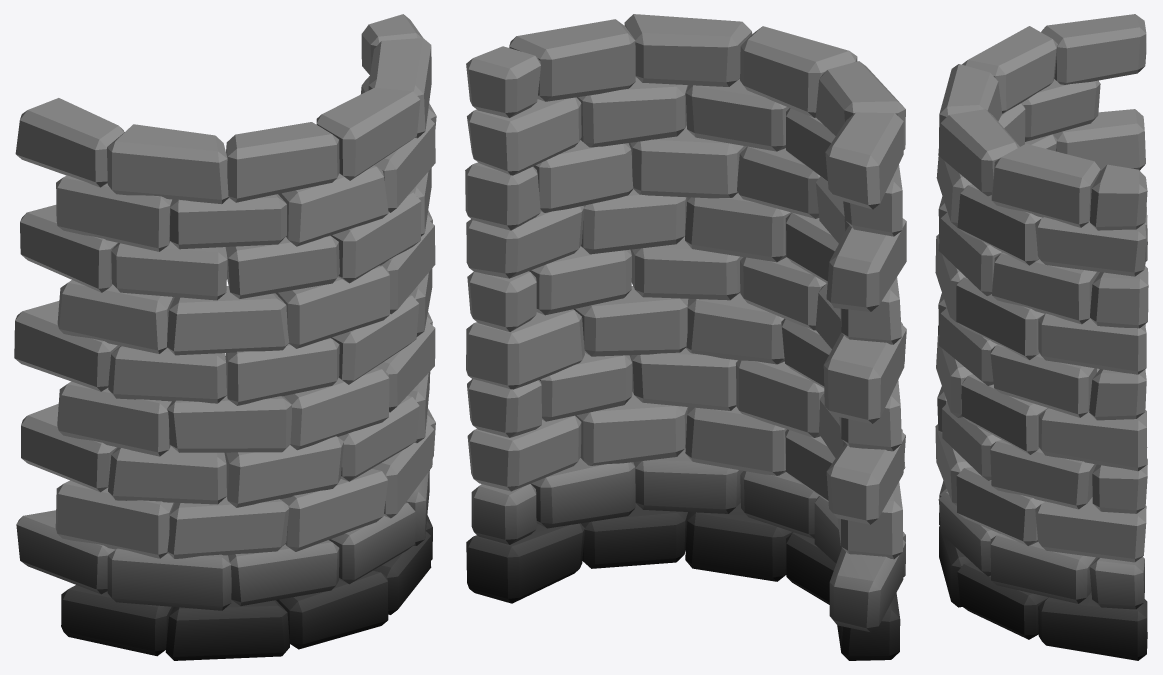
Rendered from BrickWall2x2_01_T180_End_L.fbx.
3 renders of one model, left to right at view 1: azimuth 30°, elevation 25°; view 2: azimuth 150°, elevation 25°; view 3: azimuth 270°, elevation 25°, orthographic. The views are drawn at different scales.
Parts seen in each view (by area): view 1: BrickWall2x2_01_T180_End_L; view 2: BrickWall2x2_01_T180_End_L; view 3: BrickWall2x2_01_T180_End_L.
Boxes of the visible parts, x1,y1,x2,y2 form: BrickWall2x2_01_T180_End_L: (14, 14, 436, 660); BrickWall2x2_01_T180_End_L: (465, 14, 906, 660); BrickWall2x2_01_T180_End_L: (935, 14, 1148, 660).
Size of the model in its own units: 163 by 202 by 81.14.
